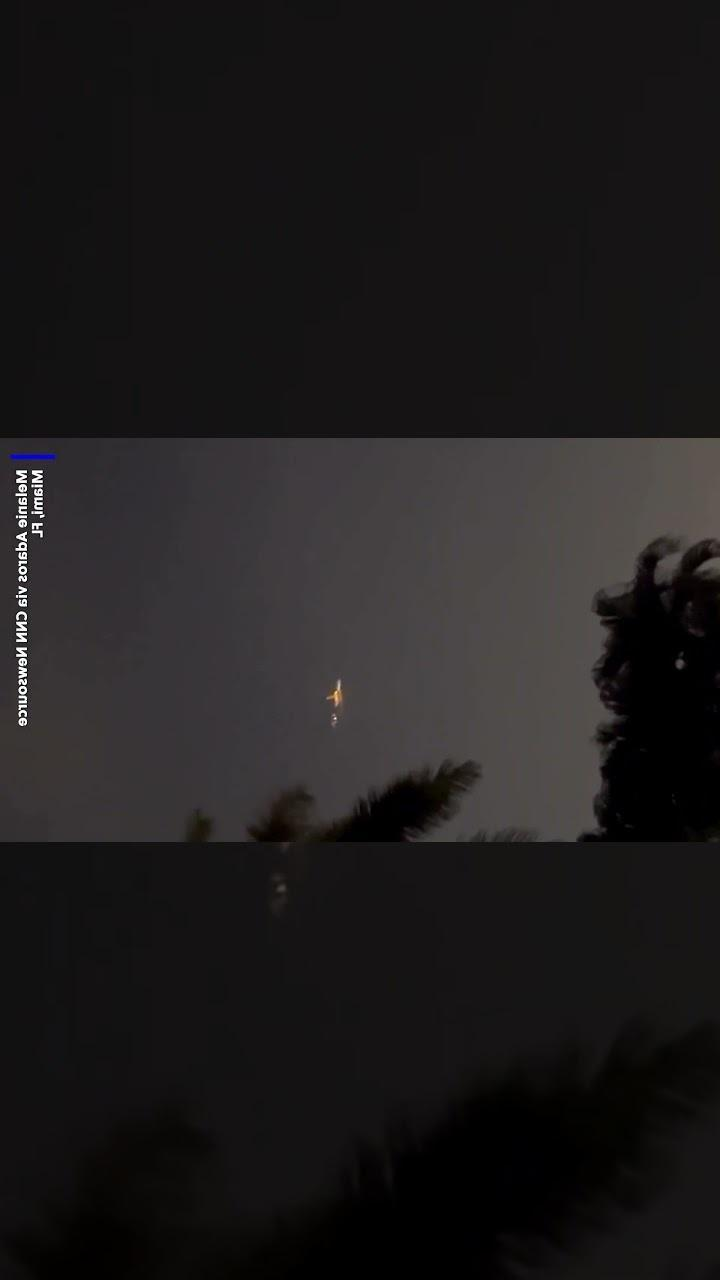Plane: (312, 663, 360, 742)
